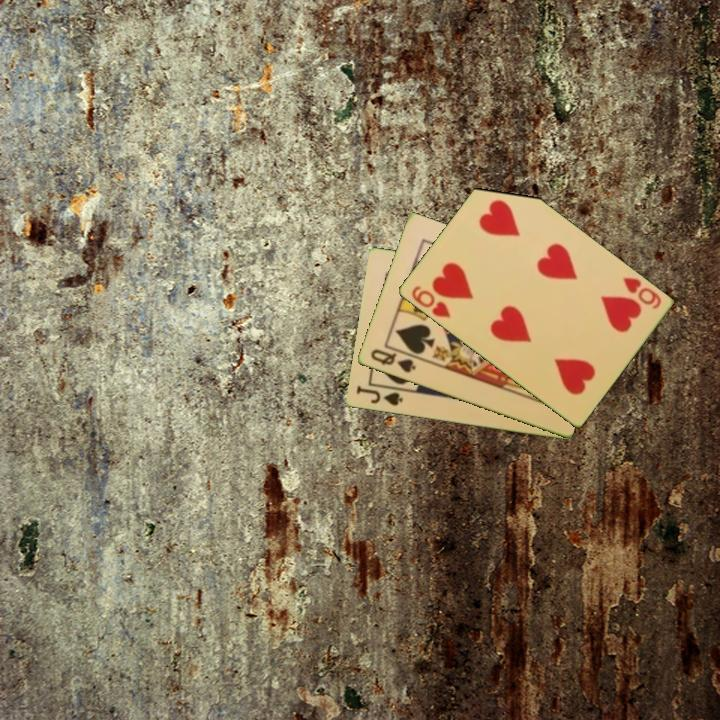6h: (407, 282, 453, 321), (618, 274, 664, 312)
Js: (352, 382, 405, 409)
Qs: (367, 346, 418, 376)
